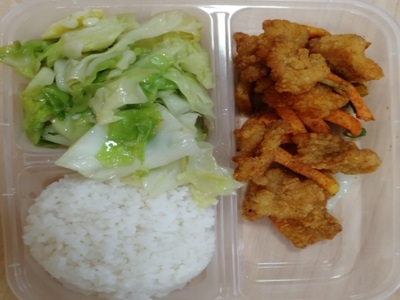cch: (29, 21, 199, 151)
r5: (241, 22, 367, 236)
rice: (38, 179, 197, 292)
